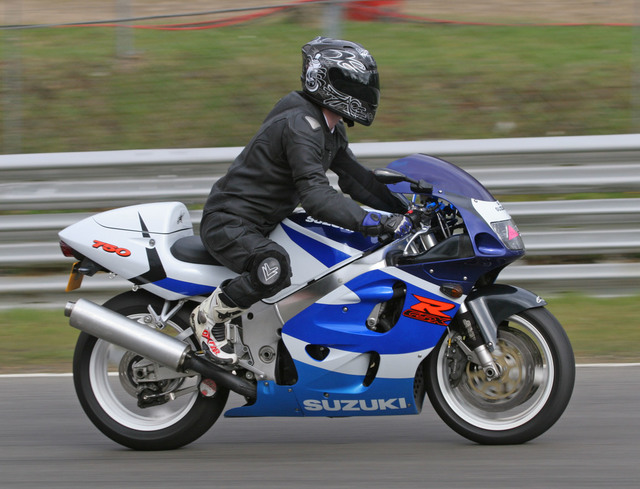helmet: (301, 33, 383, 124)
